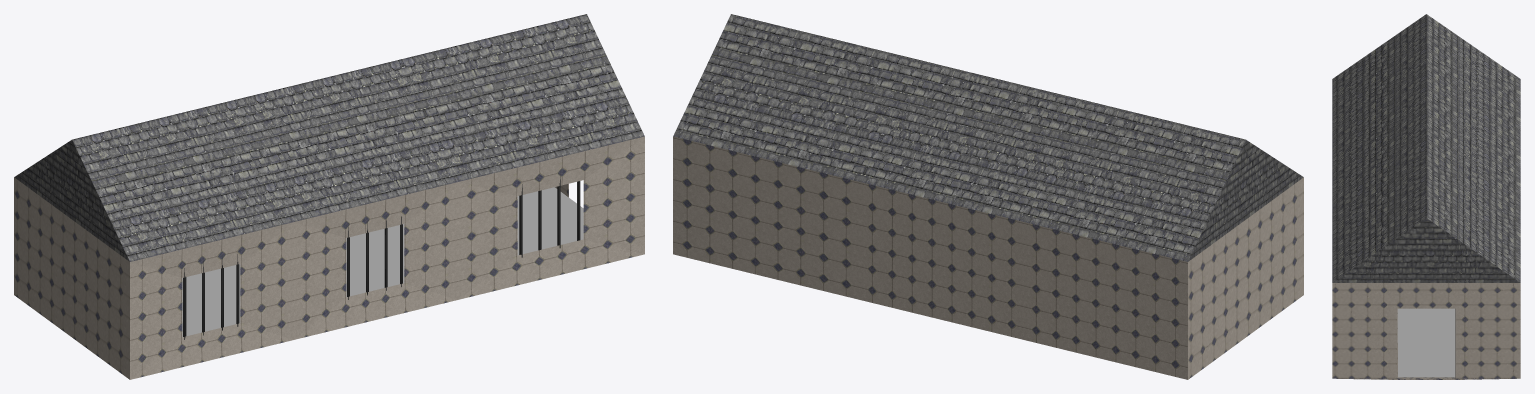
Rendered from jail small.fbx.
3 views of the same model, side by side, from view 1: azimuth 30°, elevation 25°; view 2: azimuth 150°, elevation 25°; view 3: azimuth 270°, elevation 25° (orthographic). The views are drawn at different scales.
Visible parts, largest first — view 1: polySurface3; view 2: polySurface3; view 3: polySurface3.
Part boxes in pixels (x1=…): polySurface3: x1=14, y1=14, x2=644, y2=379; polySurface3: x1=673, y1=14, x2=1303, y2=379; polySurface3: x1=1332, y1=14, x2=1520, y2=379.
Bounding box in the file's own units: 49.57 × 18.35 × 19.33.
